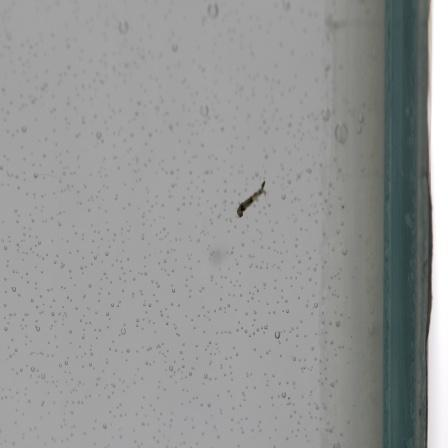Jentik-Nyamuk: (231, 176, 271, 223)
